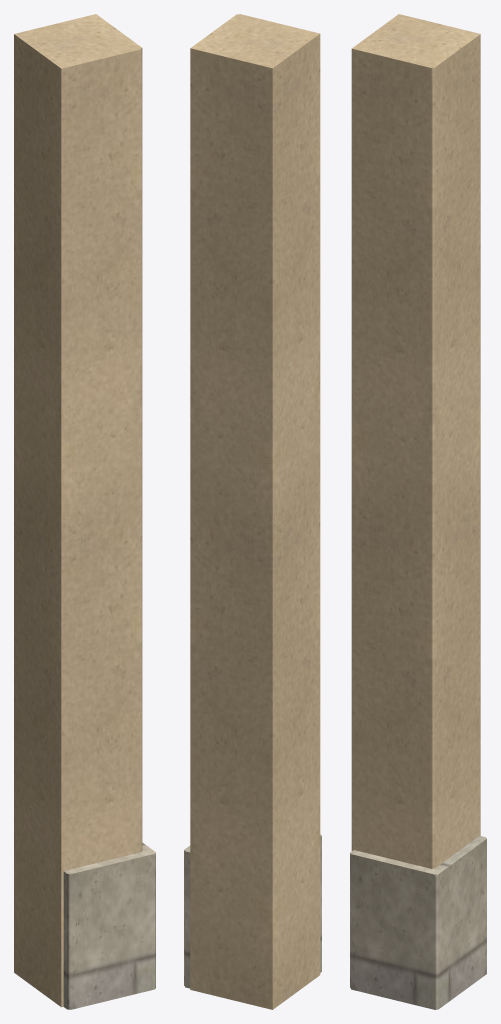
File: corner_render_ground.glb
3 renders of one model, left to right at view 1: azimuth 30°, elevation 25°; view 2: azimuth 150°, elevation 25°; view 3: azimuth 330°, elevation 25°, orthographic.
Parts seen in each view (by area): view 1: corner_render_ground_render, corner_render_ground_stone; view 2: corner_render_ground_render, corner_render_ground_stone; view 3: corner_render_ground_render, corner_render_ground_stone.
Part boxes in pixels (box(x1,y1,x2,y2)): corner_render_ground_render: box(14, 14, 142, 1007); corner_render_ground_stone: box(63, 842, 155, 1009); corner_render_ground_render: box(190, 14, 320, 1009); corner_render_ground_stone: box(184, 834, 321, 988); corner_render_ground_render: box(351, 14, 480, 868); corner_render_ground_stone: box(350, 835, 486, 1009).
Size of the model in its own units: 0.42 by 4.15 by 0.42.
Materials: 2 (2 with a texture image).
